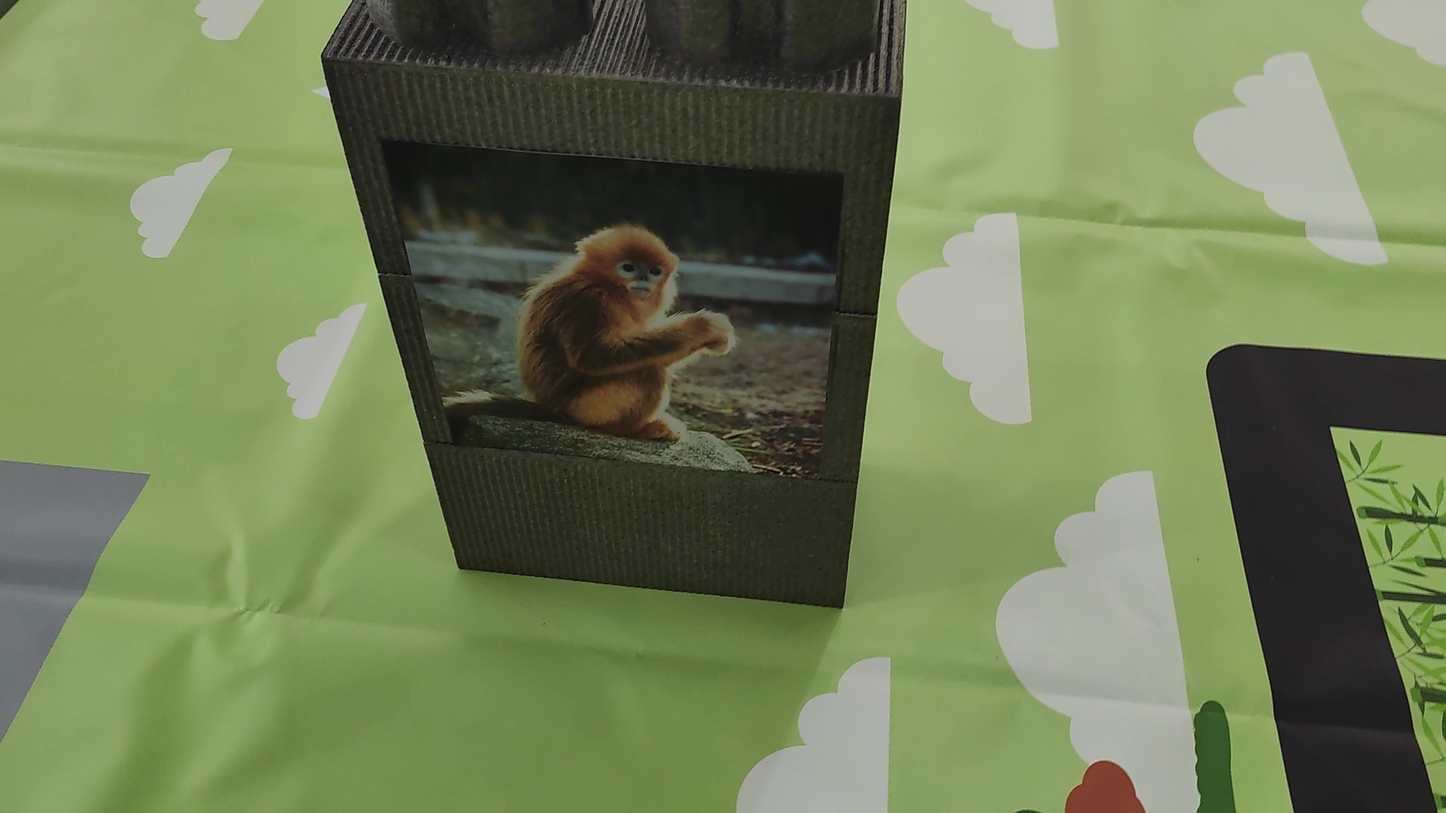monkey: (482, 190, 755, 475)
